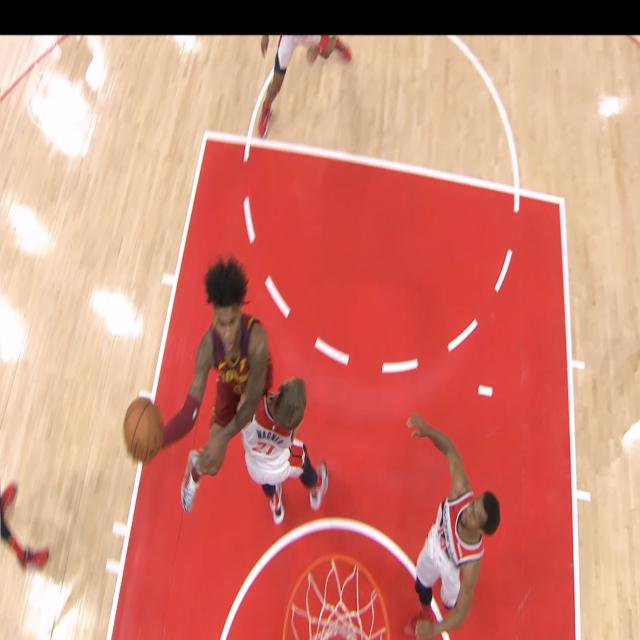foul: (131, 222, 327, 538)
